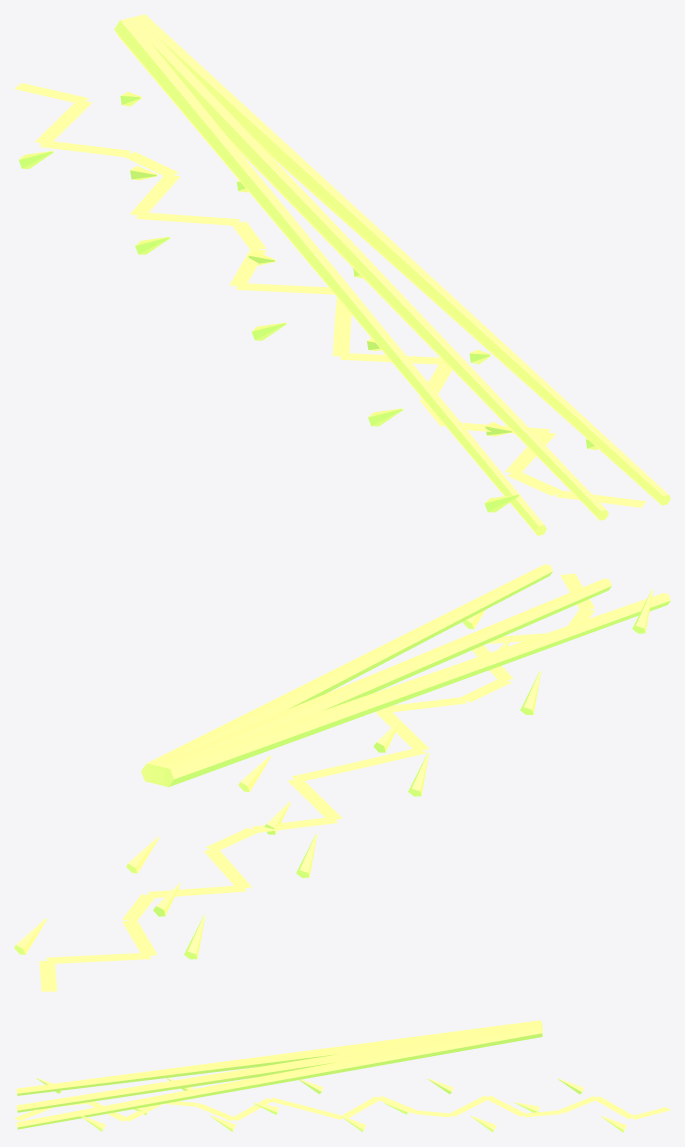
The model's file is FX_BOSS_VenomJet.glb.
3 views of the same model, one above another, from view 1: azimuth 30°, elevation 25°; view 2: azimuth 150°, elevation 25°; view 3: azimuth 270°, elevation 25° (orthographic). The views are drawn at different scales.
Visible parts, largest first — view 1: FX_BOSS_VenomJet_Release, FX_BOSS_VenomJet_Debris; view 2: FX_BOSS_VenomJet_Release, FX_BOSS_VenomJet_Debris; view 3: FX_BOSS_VenomJet_Release, FX_BOSS_VenomJet_Debris.
Part boxes in pixels (<box>): FX_BOSS_VenomJet_Release: <box>14,14,670,535</box>; FX_BOSS_VenomJet_Debris: <box>19,92,597,512</box>; FX_BOSS_VenomJet_Release: <box>39,564,670,991</box>; FX_BOSS_VenomJet_Debris: <box>14,589,653,959</box>; FX_BOSS_VenomJet_Release: <box>14,1020,670,1129</box>; FX_BOSS_VenomJet_Debris: <box>36,1078,626,1132</box>.
Size of what is drawn, in the model's own units: 0.00296 by 0.00293 by 0.0194.
